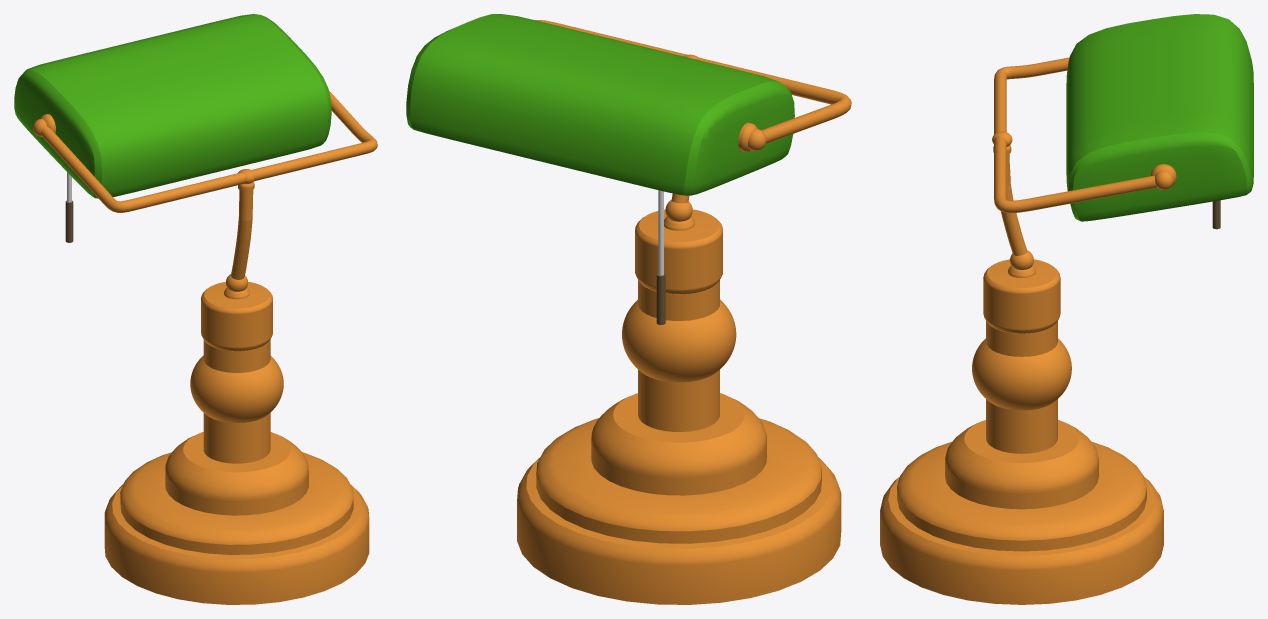
The model's file is Lamp.fbx.
The picture shows the model from 3 angles, left to right: view 1: azimuth 30°, elevation 25°; view 2: azimuth 150°, elevation 25°; view 3: azimuth 270°, elevation 25°; orthographic projection. The views are drawn at different scales.
Parts seen in each view (by area): view 1: Icosphere.001, Cube; view 2: Icosphere.001, Cube; view 3: Icosphere.001, Cube.
Boxes of the visible parts, box(x1,y1,x2,y2) form: Icosphere.001: box(33, 91, 377, 604); Cube: box(14, 14, 331, 198); Icosphere.001: box(517, 20, 851, 604); Cube: box(406, 14, 794, 195); Icosphere.001: box(880, 57, 1176, 604); Cube: box(1066, 14, 1253, 221).
Size of the model in its own units: 237 by 368 by 263.
